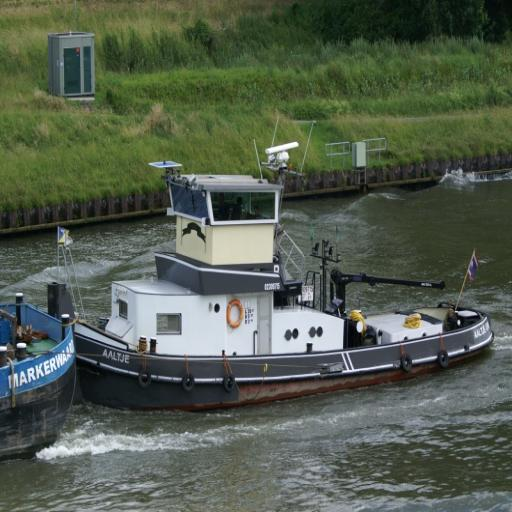tugboat: (47, 115, 498, 423)
